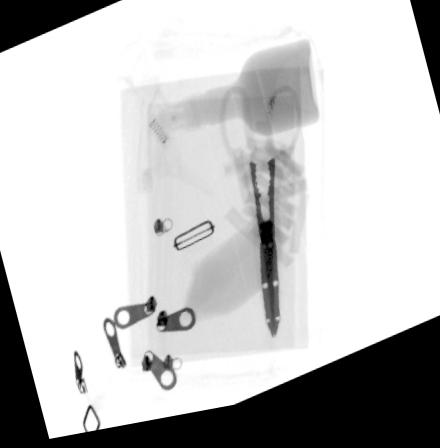Scissors: (219, 95, 303, 349)
